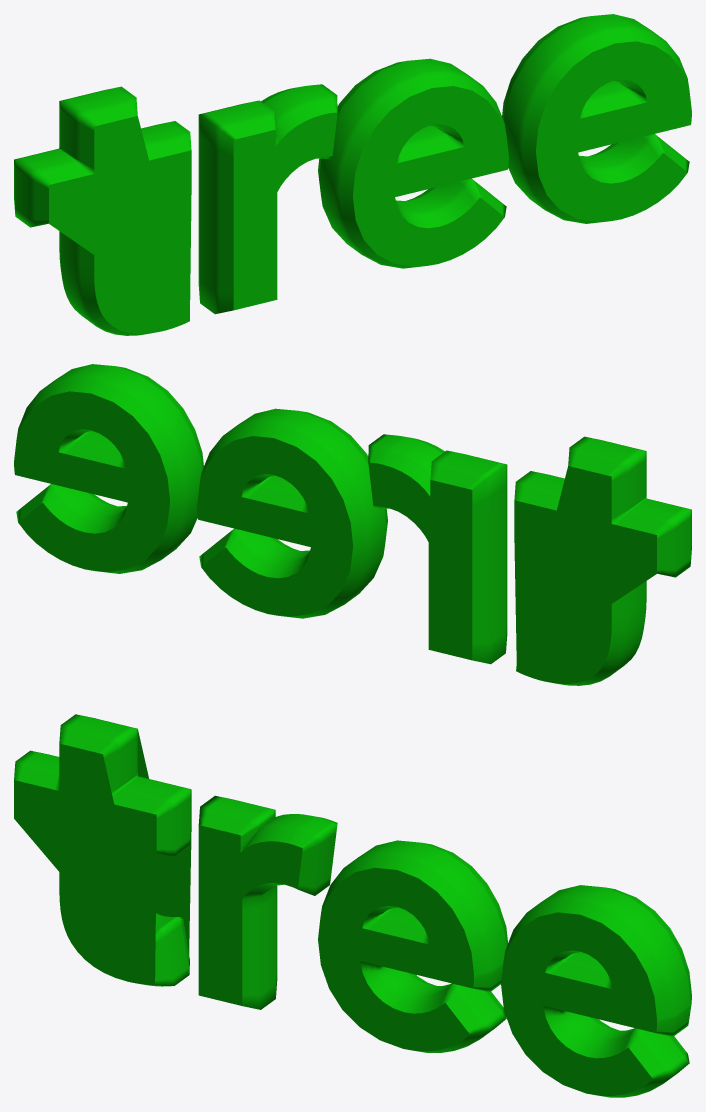
File: tree.fbx
3 views of the same model, one above another, from view 1: azimuth 30°, elevation 25°; view 2: azimuth 150°, elevation 25°; view 3: azimuth 330°, elevation 25° (orthographic).
Parts seen in each view (by area): view 1: bevelPolygon1, bevelPolygon4, bevelPolygon3, bevelPolygon2; view 2: bevelPolygon1, bevelPolygon4, bevelPolygon3, bevelPolygon2; view 3: bevelPolygon1, bevelPolygon4, bevelPolygon3, bevelPolygon2.
Boxes of the visible parts, <box> form: bevelPolygon1: <box>14,86,191,335</box>; bevelPolygon4: <box>502,14,691,223</box>; bevelPolygon3: <box>318,58,508,268</box>; bevelPolygon2: <box>198,84,337,314</box>; bevelPolygon1: <box>514,436,691,685</box>; bevelPolygon4: <box>14,364,203,573</box>; bevelPolygon3: <box>197,408,387,618</box>; bevelPolygon2: <box>368,434,507,664</box>; bevelPolygon1: <box>14,714,191,986</box>; bevelPolygon4: <box>501,885,691,1097</box>; bevelPolygon3: <box>318,840,507,1052</box>; bevelPolygon2: <box>198,795,337,1009</box>.
Bounding box in the file's own units: 7.66 × 2.65 × 0.7.
